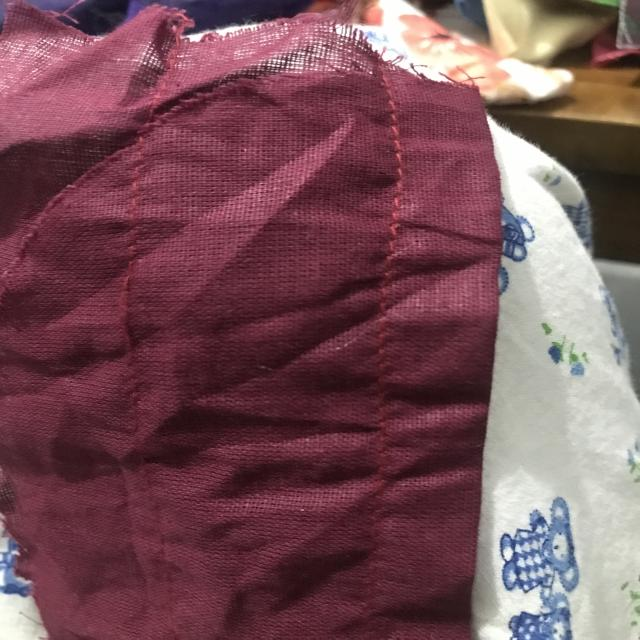good: (382, 157, 414, 229)
skip: (104, 257, 149, 360)
